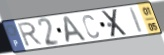2: (38, 16, 62, 50)
A: (63, 14, 89, 45)
C: (82, 14, 101, 40)
I: (128, 6, 145, 34)
R: (16, 21, 45, 49)
X: (100, 8, 129, 39)
